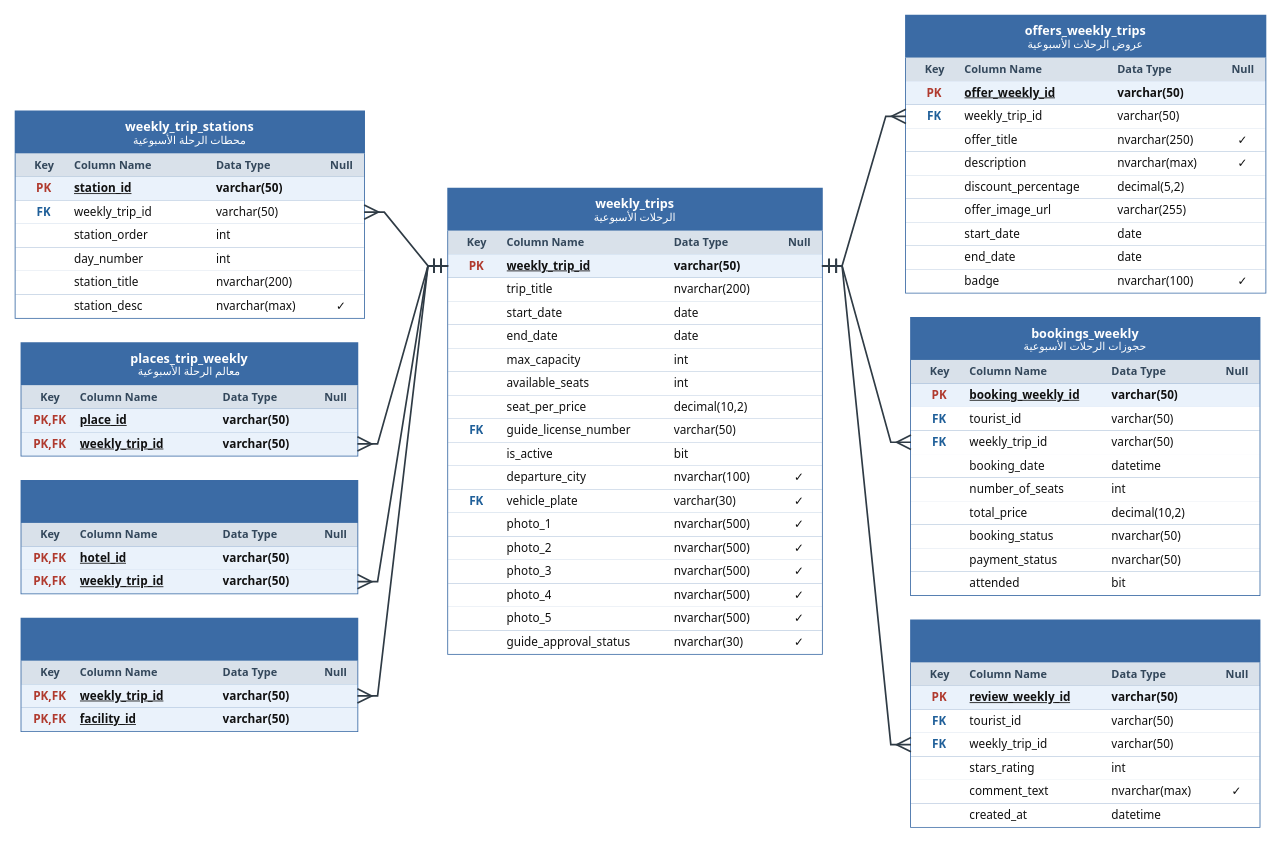
This 1280x842 diagram has some shape labels left out. The shapes that lost their labels are listed below. From the top down, each one's box as (x1, y1, x2, y2) in pixels, then its label:
(20, 480, 358, 594): hotels_trip_weekly فنادق الرحلة الأسبوعية
(20, 617, 358, 732): restaurants_trip_weekly مطاعم الرحلة الأسبوعية
(910, 619, 1260, 827): reviews_weekly_trips تقييمات الرحلات الأسبوعية
